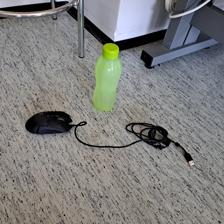bottle: (90, 42, 121, 112)
mouse: (24, 109, 73, 134)
